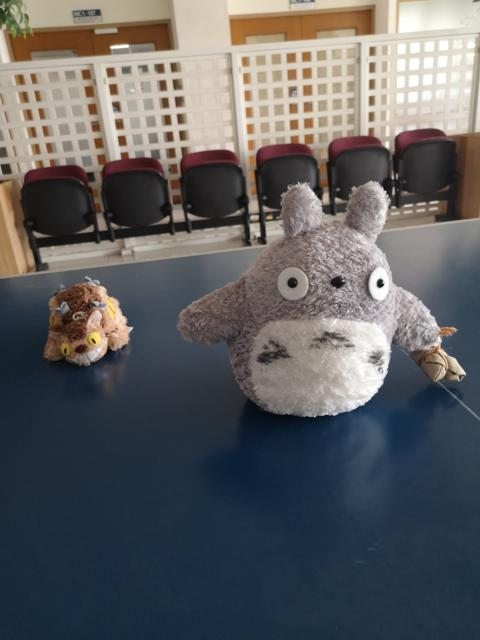nekobus: (40, 273, 134, 371)
totoro: (176, 179, 468, 423)
